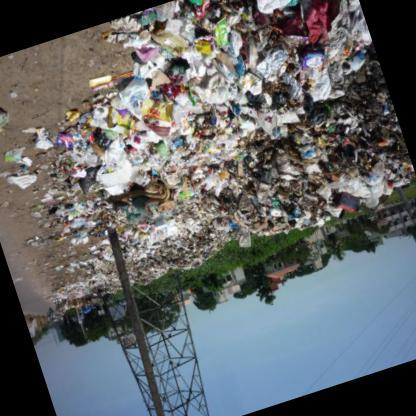Garbage: (97, 0, 415, 272), (85, 38, 198, 150), (269, 0, 380, 91), (228, 29, 314, 122), (171, 102, 249, 182), (39, 98, 93, 168), (30, 104, 98, 158), (0, 131, 48, 203), (274, 122, 322, 174), (298, 67, 346, 118), (142, 61, 185, 114), (48, 192, 93, 235), (70, 157, 112, 202), (174, 128, 218, 169), (92, 150, 134, 190), (232, 104, 272, 145), (122, 80, 158, 118), (198, 78, 233, 111), (179, 219, 207, 251), (208, 174, 242, 200), (242, 71, 268, 103), (0, 95, 21, 133), (226, 222, 256, 248), (75, 252, 104, 274), (66, 224, 94, 245), (369, 160, 392, 184), (217, 129, 242, 149), (189, 174, 210, 192), (52, 280, 72, 298), (133, 242, 150, 255)
